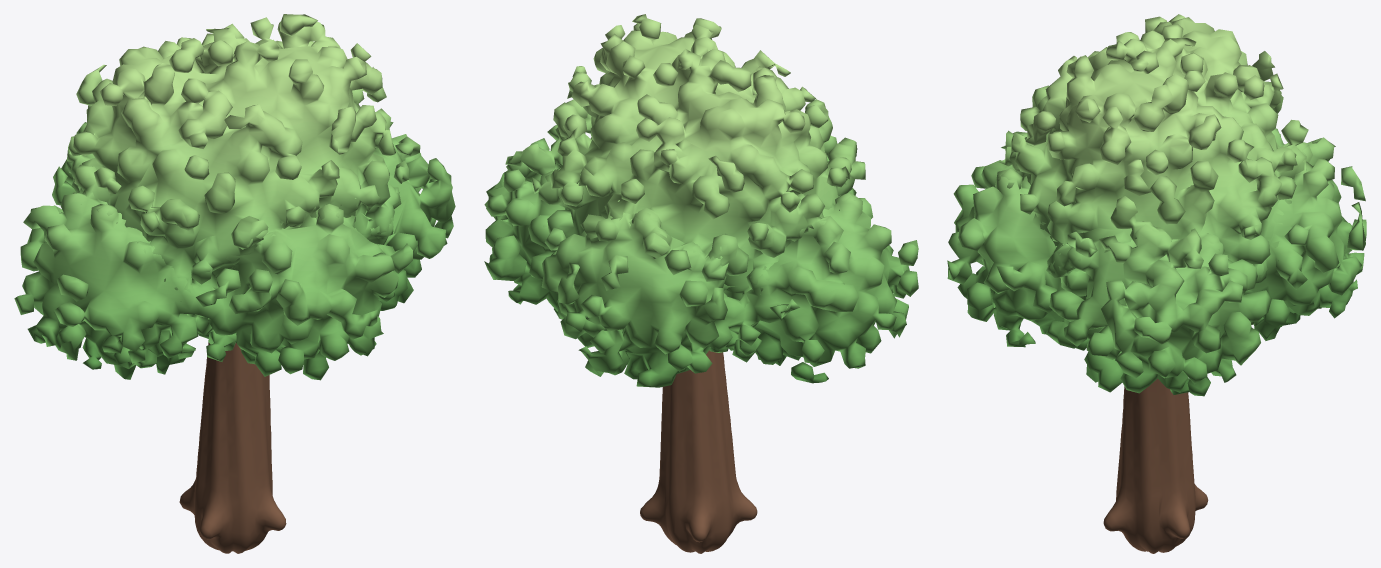
File: puffball_roblox.glb
3 views of the same model, side by side, from view 1: azimuth 30°, elevation 25°; view 2: azimuth 150°, elevation 25°; view 3: azimuth 270°, elevation 25° (orthographic). The views are drawn at different scales.
Visible parts, largest first — view 1: Puffball_CrownCore, Puffball_CrownSides, Puffball_Trunk; view 2: Puffball_CrownSides, Puffball_CrownCore, Puffball_Trunk; view 3: Puffball_CrownSides, Puffball_CrownCore, Puffball_Trunk.
Boxes of the visible parts, x1,y1,x2,y2 form: Puffball_CrownCore: (67, 14, 408, 343); Puffball_CrownSides: (14, 106, 455, 380); Puffball_Trunk: (179, 342, 286, 553); Puffball_CrownSides: (484, 125, 918, 387); Puffball_CrownCore: (532, 14, 865, 352); Puffball_Trunk: (640, 350, 757, 553); Puffball_CrownSides: (947, 134, 1366, 396); Puffball_CrownCore: (997, 14, 1312, 297); Puffball_Trunk: (1103, 378, 1208, 553).
Bounding box in the file's own units: 3.02 × 3.62 × 2.64.
Materials: 2 (2 with a texture image).
